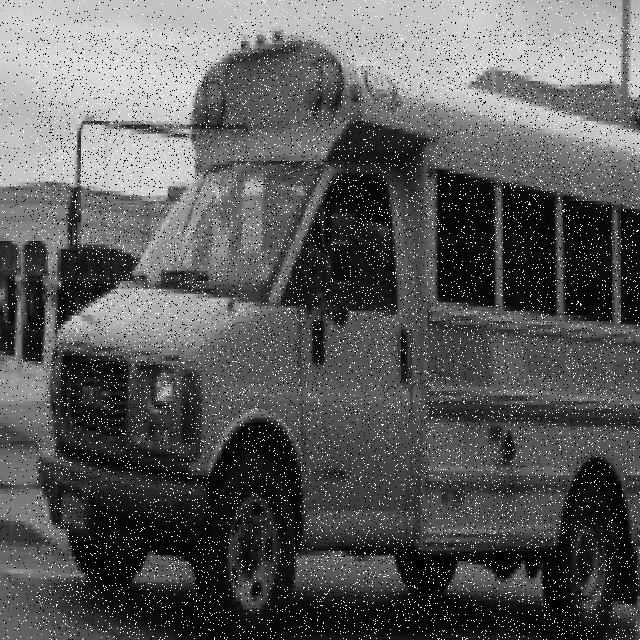Bus- Small: (36, 30, 640, 640)
